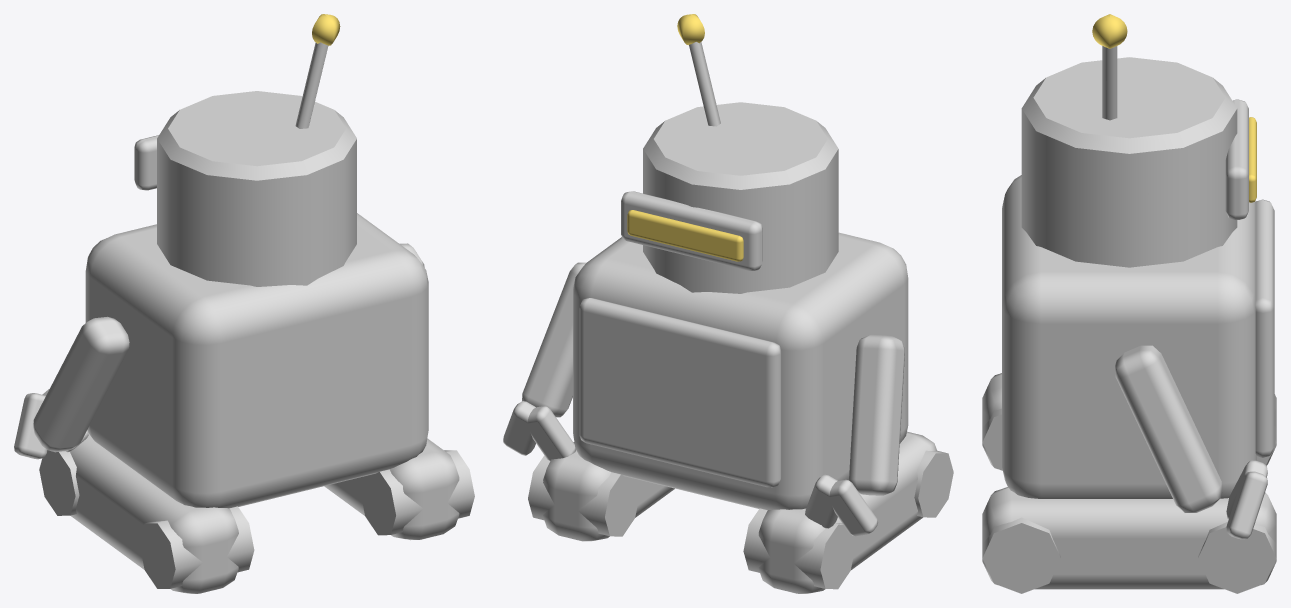
File: RustyBot.glb
3 views of the same model, side by side, from view 1: azimuth 30°, elevation 25°; view 2: azimuth 150°, elevation 25°; view 3: azimuth 270°, elevation 25° (orthographic). The views are drawn at different scales.
Visible parts, largest first — view 1: Body, Glow; view 2: Body, Glow; view 3: Body, Glow.
Part boxes in pixels (left/top/right/bottom): Body: left=14, top=42, right=474, bottom=593; Glow: left=312, top=14, right=340, bottom=45; Body: left=503, top=42, right=953, bottom=593; Glow: left=627, top=14, right=743, bottom=261; Body: left=982, top=46, right=1276, bottom=593; Glow: left=1092, top=14, right=1256, bottom=202.
Size of the model in its own units: 2.4 by 3.04 by 1.5.
